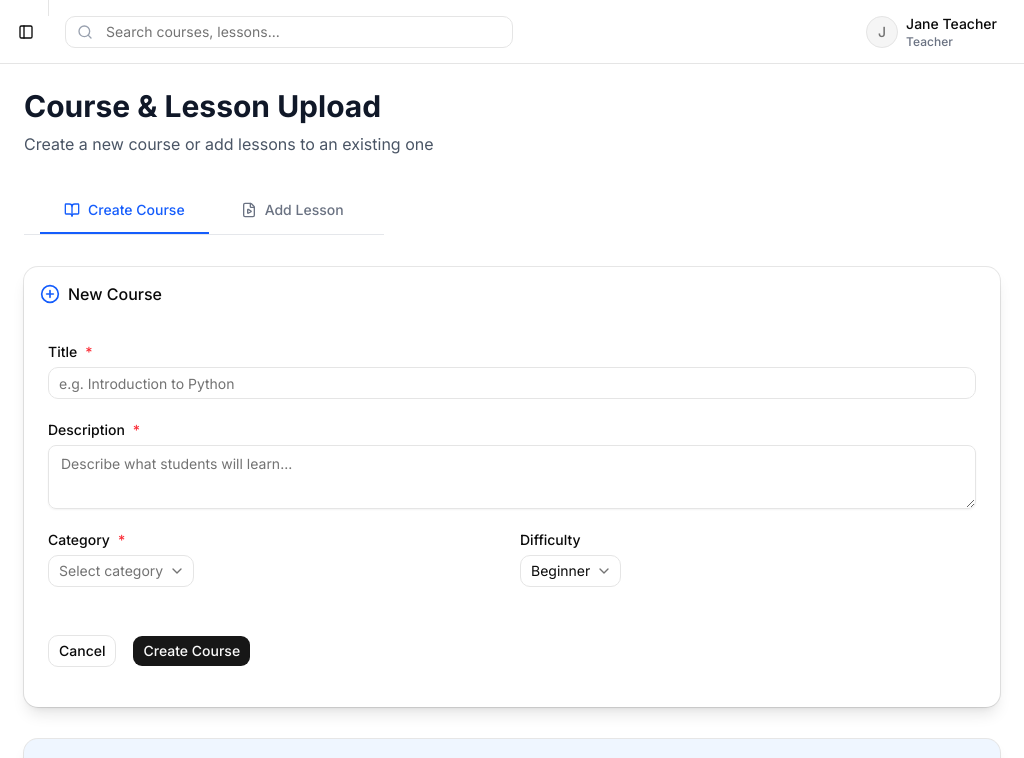
Test: Teacher Upload Page - Rendering › switches to Add Lesson tab when clicked
Click the tab with test id "tab-add-lesson" at (292, 211), box [217,188,368,234]
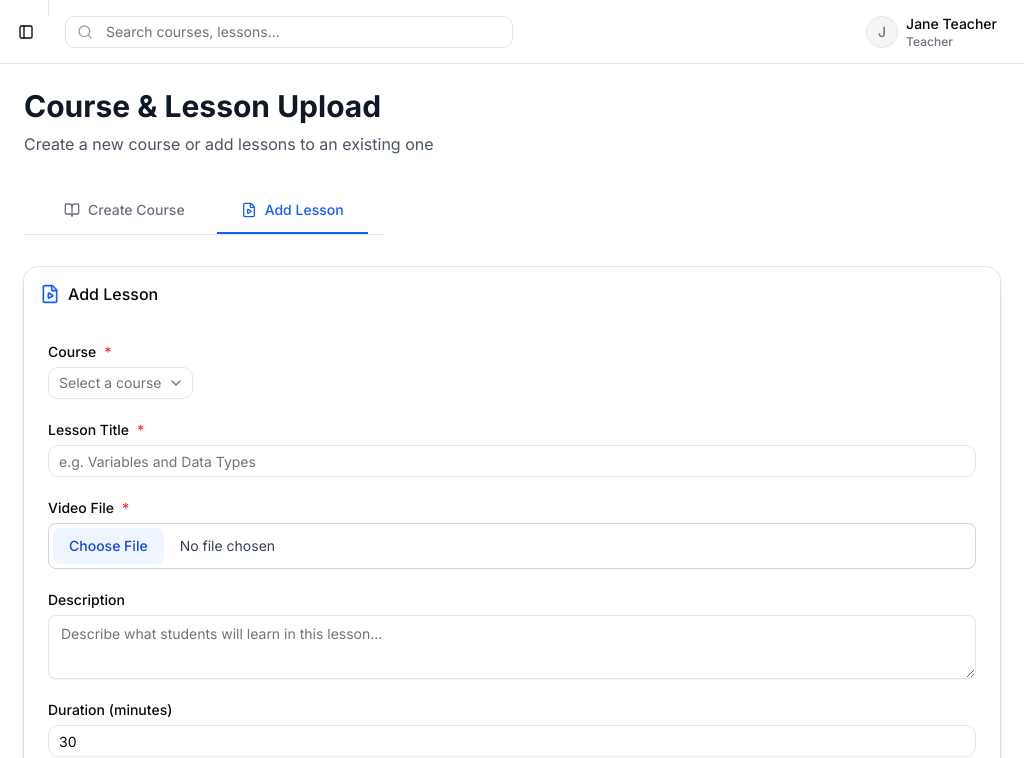
Result: the field labelled "Lesson Title *" is shown at [48,445,976,477]
Result: the file field labelled "Video File *" is shown at [48,523,976,569]
